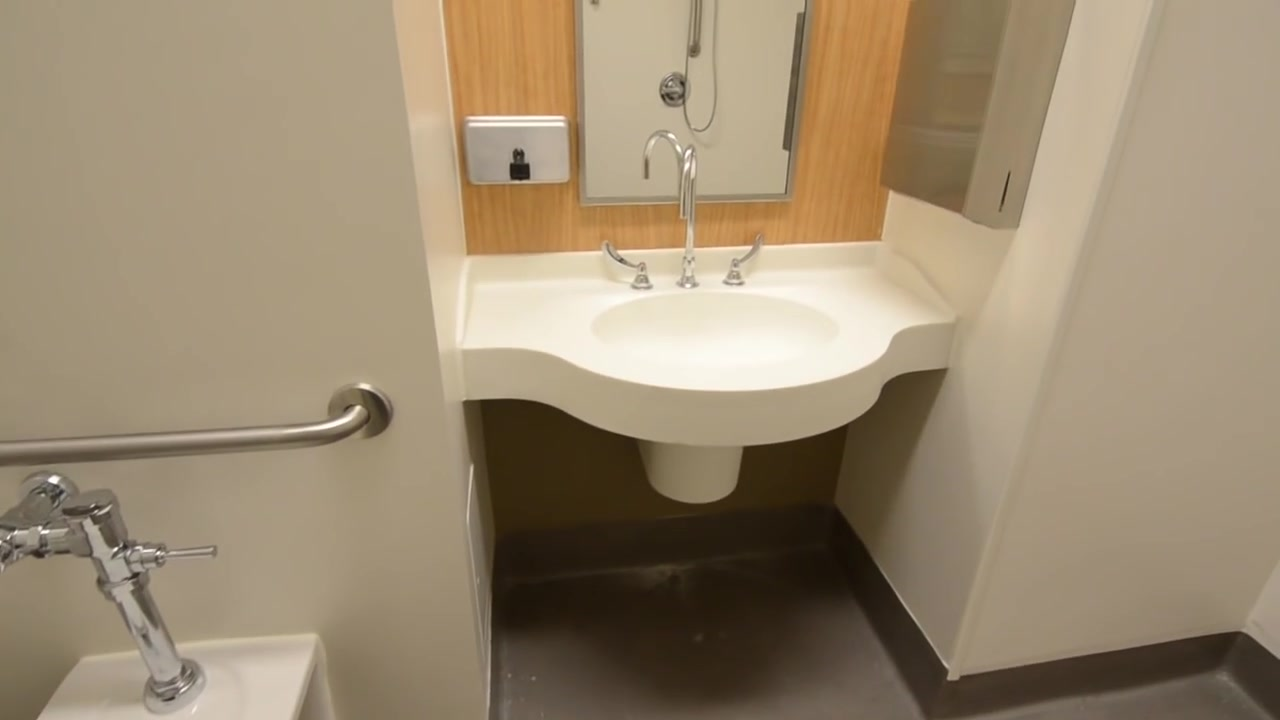dispenser: (881, 1, 1082, 230)
faucet: (604, 131, 760, 290)
restroom_assist_bar: (1, 389, 364, 462)
sink: (588, 287, 854, 371)
toilet_handle: (152, 539, 219, 565)
